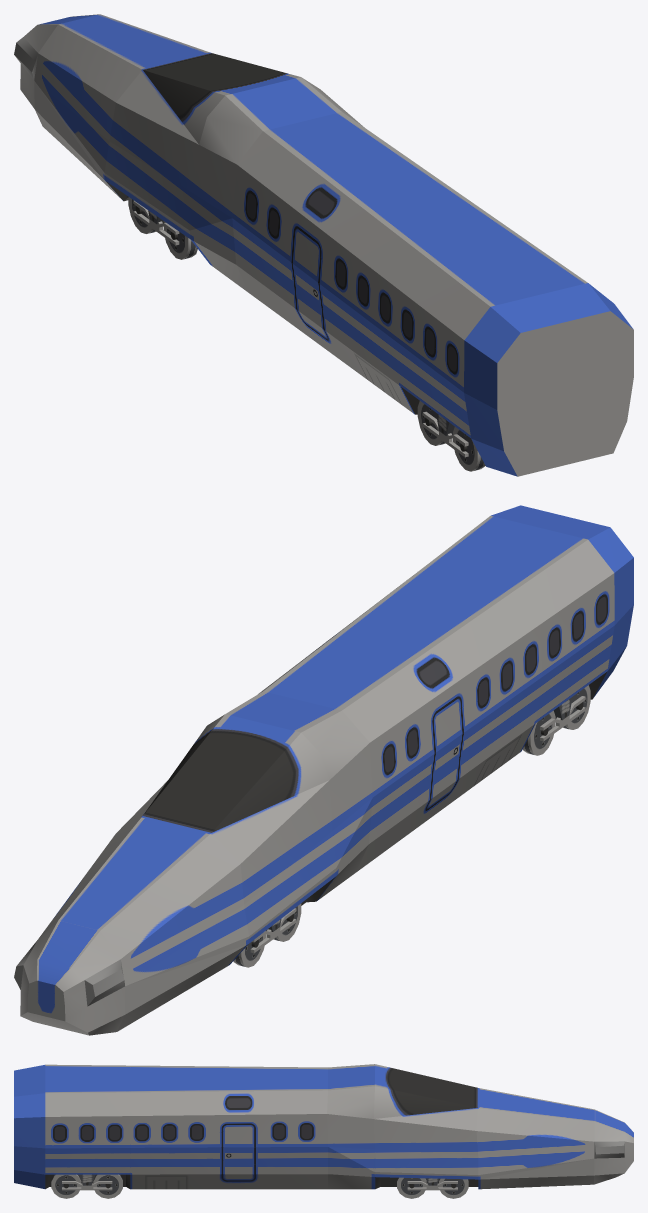
The model's file is Raiway carriage d.obj.
3 views of the same model, one above another, from view 1: azimuth 30°, elevation 25°; view 2: azimuth 150°, elevation 25°; view 3: azimuth 270°, elevation 25° (orthographic). The views are drawn at different scales.
Visible parts, largest first — view 1: Railway_carriage_d, Wheel_b; view 2: Railway_carriage_d; view 3: Railway_carriage_d, Wheel_f, Wheel_e, Wheel_h, Wheel_g.
Boxes of the visible parts, x1=… form: Railway_carriage_d: x1=14, y1=14, x2=633, y2=476; Wheel_b: x1=453, y1=427, x2=485, y2=471; Railway_carriage_d: x1=14, y1=505, x2=633, y2=1035; Railway_carriage_d: x1=14, y1=1064, x2=633, y2=1190; Wheel_f: x1=51, y1=1174, x2=81, y2=1198; Wheel_e: x1=93, y1=1174, x2=122, y2=1198; Wheel_h: x1=397, y1=1177, x2=426, y2=1198; Wheel_g: x1=439, y1=1178, x2=468, y2=1198.
Bounding box in the file's own units: 99.25 × 114 × 592.
1 material, 1 textured.
